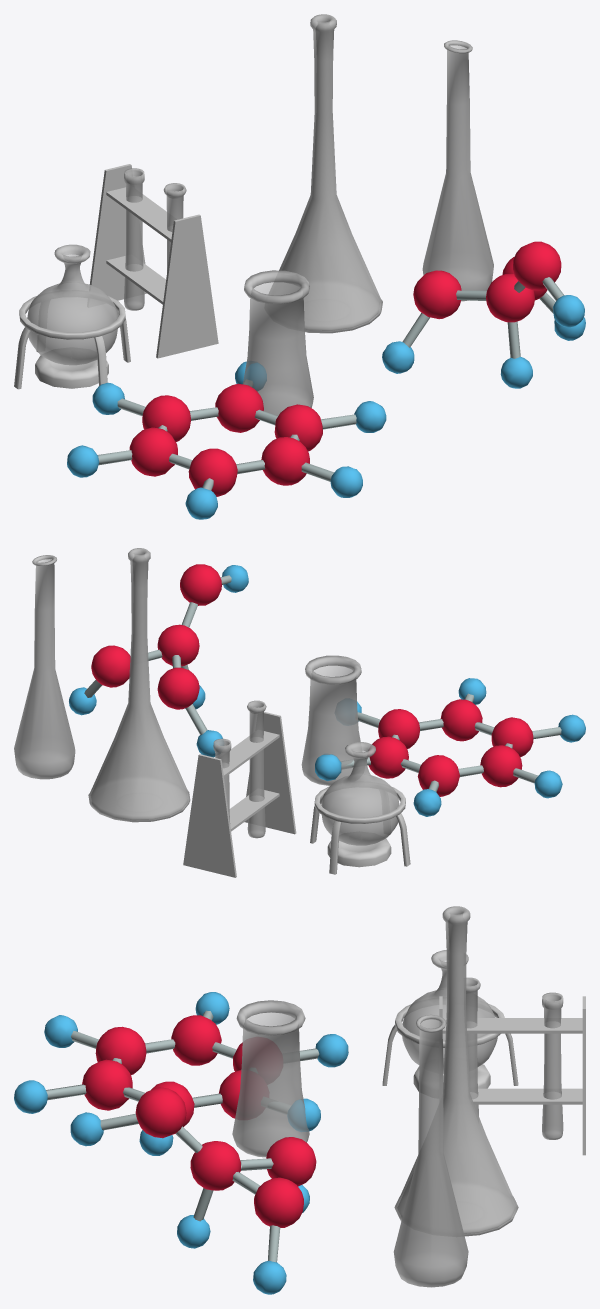
File: lab.fbx
3 views of the same model, one above another, from view 1: azimuth 30°, elevation 25°; view 2: azimuth 150°, elevation 25°; view 3: azimuth 270°, elevation 25° (orthographic). The views are drawn at different scales.
Visible parts, largest first — view 1: ChemistryMol01, ChemistryProp05__1_, ChemistryProp02, ChemistryProp03, ChemistryMol02, ChemistryProp04, ChemistryProp06__1_; view 2: ChemistryMol01, ChemistryProp05__1_, ChemistryProp02, ChemistryMol02, ChemistryProp03, ChemistryProp04, ChemistryProp06__1_; view 3: ChemistryMol01, ChemistryMol02, ChemistryProp02, ChemistryProp04, ChemistryProp06__1_, ChemistryProp05__1_, ChemistryProp03.
Boxes of the visible parts, left/top/right/bottom form: ChemistryMol01: left=67, top=361, right=386, bottom=519; ChemistryProp05__1_: left=89, top=164, right=218, bottom=358; ChemistryProp02: left=269, top=14, right=382, bottom=333; ChemistryProp03: left=14, top=244, right=130, bottom=389; ChemistryMol02: left=382, top=241, right=585, bottom=388; ChemistryProp04: left=422, top=40, right=493, bottom=301; ChemistryProp06__1_: left=243, top=270, right=313, bottom=415; ChemistryMol01: left=315, top=678, right=585, bottom=816; ChemistryProp05__1_: left=183, top=700, right=296, bottom=877; ChemistryProp02: left=88, top=548, right=190, bottom=822; ChemistryMol02: left=69, top=564, right=248, bottom=757; ChemistryProp03: left=310, top=742, right=410, bottom=874; ChemistryProp04: left=14, top=555, right=75, bottom=779; ChemistryProp06__1_: left=301, top=655, right=361, bottom=785; ChemistryMol01: left=14, top=992, right=348, bottom=1155; ChemistryMol02: left=70, top=1087, right=316, bottom=1294; ChemistryProp02: left=394, top=906, right=518, bottom=1236; ChemistryProp04: left=393, top=1014, right=468, bottom=1287; ChemistryProp06__1_: left=232, top=1000, right=309, bottom=1157; ChemistryProp05__1_: left=439, top=977, right=585, bottom=1155; ChemistryProp03: left=382, top=950, right=518, bottom=1091.
Size of the model in its own units: 79.02 by 41.08 by 69.72.
